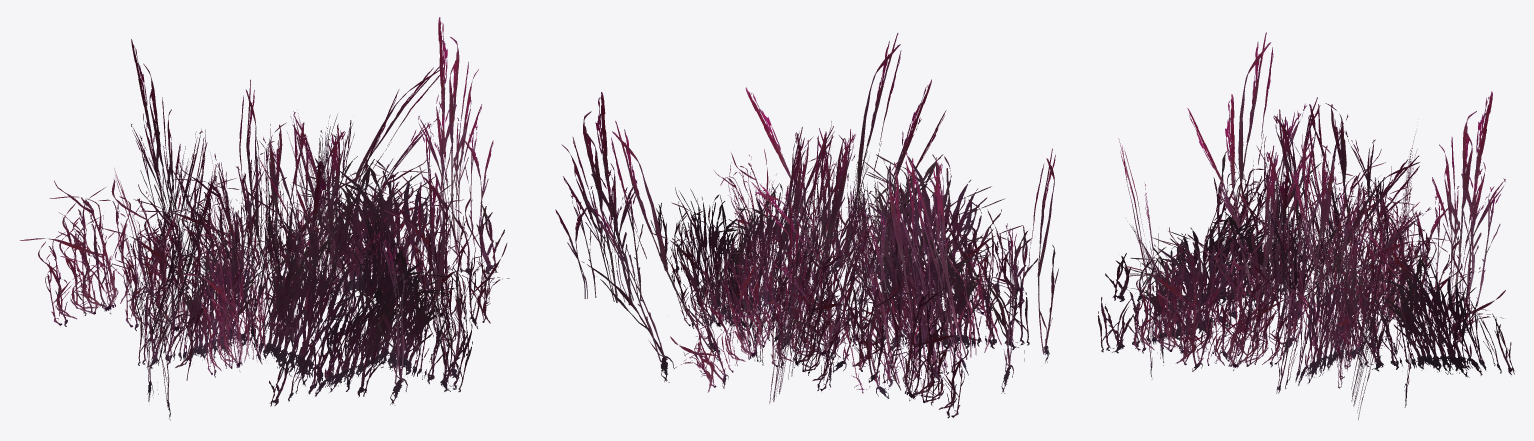
3 renders of one model, left to right at view 1: azimuth 30°, elevation 25°; view 2: azimuth 150°, elevation 25°; view 3: azimuth 270°, elevation 25°, orthographic. The views are drawn at different scales.
Visible parts, largest first — view 1: SM_GF_WildGrass_02_LOD0; view 2: SM_GF_WildGrass_02_LOD0; view 3: SM_GF_WildGrass_02_LOD0.
Boxes of the visible parts, left/top/right/bottom form: SM_GF_WildGrass_02_LOD0: left=20, top=17, right=509, bottom=420; SM_GF_WildGrass_02_LOD0: left=555, top=33, right=1058, bottom=418; SM_GF_WildGrass_02_LOD0: left=1097, top=32, right=1514, bottom=419.
Size of the model in its own units: 0.8425 by 0.491 by 0.7399.
1 material, 1 textured.
